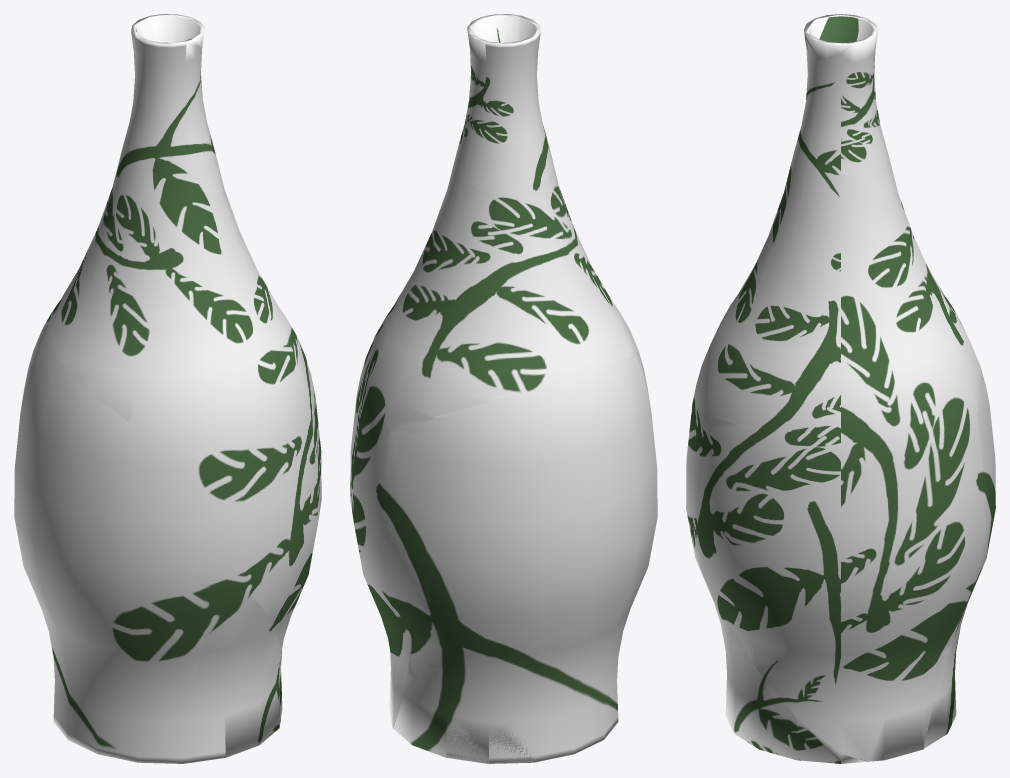
File: Vase.fbx
3 views of the same model, side by side, from view 1: azimuth 30°, elevation 25°; view 2: azimuth 150°, elevation 25°; view 3: azimuth 270°, elevation 25° (orthographic).
Visible parts, largest first — view 1: Vase, Vase_cell.005, Vase_cell.001, Vase_cell.004, Vase_cell.009, Vase_cell.008; view 2: Vase, Vase_cell.005, Vase_cell.001, Vase_cell.003, Vase_cell.002, Vase_cell.009; view 3: Vase_cell.001, Vase, Vase_cell.009, Vase_cell.004, Vase_cell.005, Vase_cell.003, Vase_cell.002, Vase_cell.006.
Part boxes in pixels (box(x1,y1,x2,y2)): Vase: box(14, 16, 308, 763); Vase_cell.005: box(45, 169, 260, 467); Vase_cell.001: box(242, 368, 321, 664); Vase_cell.004: box(225, 588, 282, 757); Vase_cell.009: box(131, 14, 214, 169); Vase_cell.008: box(183, 572, 214, 690); Vase: box(363, 16, 657, 763); Vase_cell.005: box(388, 158, 638, 431); Vase_cell.001: box(350, 368, 417, 728); Vase_cell.003: box(393, 604, 573, 763); Vase_cell.002: box(392, 403, 486, 603); Vase_cell.009: box(456, 15, 540, 188); Vase_cell.001: box(686, 404, 990, 761); Vase: box(692, 32, 990, 761); Vase_cell.009: box(794, 14, 892, 177); Vase_cell.004: box(691, 536, 866, 763); Vase_cell.005: box(711, 171, 980, 401); Vase_cell.003: box(923, 550, 987, 748); Vase_cell.002: box(977, 369, 995, 550); Vase_cell.006: box(805, 33, 851, 58).
Bounding box in the file's own units: 24.22 × 59.14 × 24.22.
Materials: 1 (1 with a texture image).
